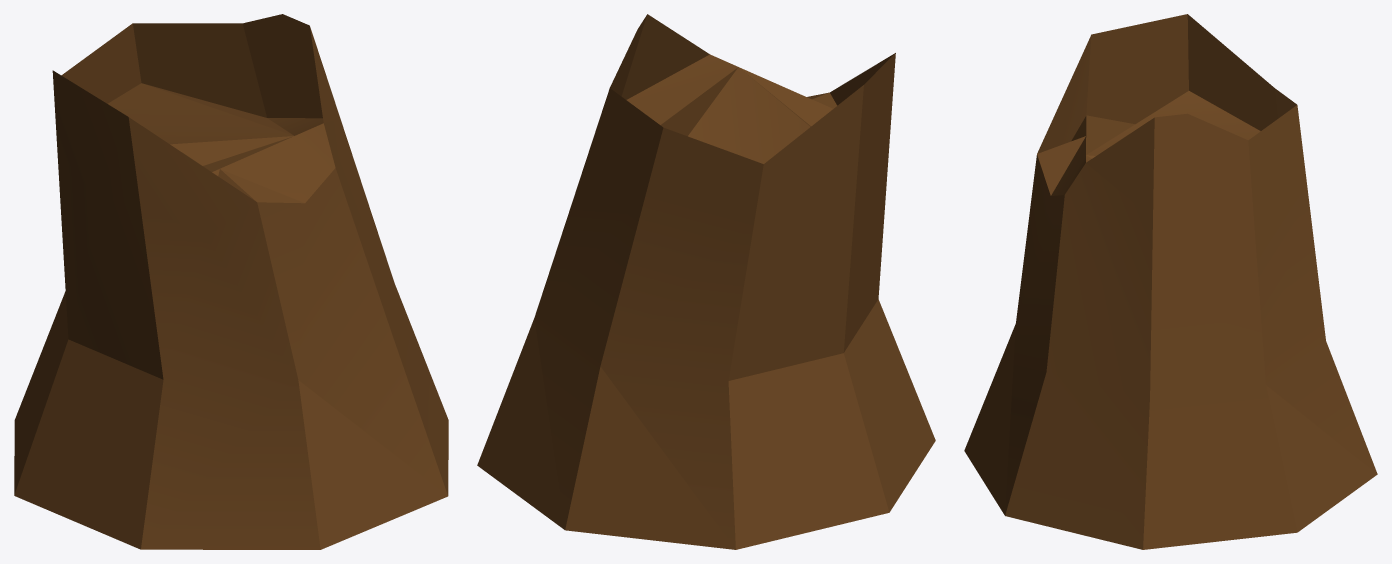
File: Tree_Stump_02.fbx
3 views of the same model, side by side, from view 1: azimuth 30°, elevation 25°; view 2: azimuth 150°, elevation 25°; view 3: azimuth 270°, elevation 25° (orthographic). The views are drawn at different scales.
Parts seen in each view (by area): view 1: Tree_Stump_02; view 2: Tree_Stump_02; view 3: Tree_Stump_02.
Part boxes in pixels (x1,y1,x2,y2): Tree_Stump_02: [14, 14, 448, 549]; Tree_Stump_02: [477, 14, 935, 549]; Tree_Stump_02: [964, 14, 1377, 549].
Size of the model in its own units: 19.27 by 19.29 by 19.27.
